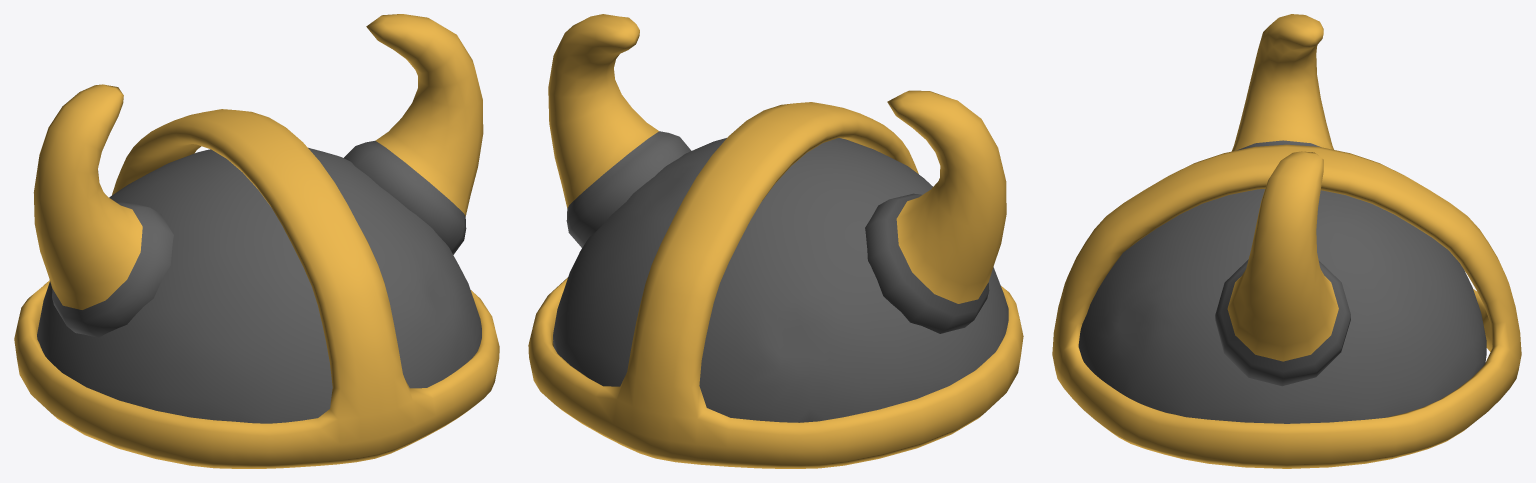
Rendered from Hat(7).gltf.
The picture shows the model from 3 angles, left to right: view 1: azimuth 30°, elevation 25°; view 2: azimuth 150°, elevation 25°; view 3: azimuth 270°, elevation 25°; orthographic projection. The views are drawn at different scales.
Visible parts, largest first — view 1: Hat(7); view 2: Hat(7); view 3: Hat(7).
Boxes of the visible parts, bbox=[...] form: Hat(7): bbox=[14, 14, 499, 468]; Hat(7): bbox=[528, 14, 1023, 468]; Hat(7): bbox=[1052, 14, 1521, 468].
Bounding box in the file's own units: 1.85 × 1.25 × 1.83.
Materials: 1 (1 with a texture image).
